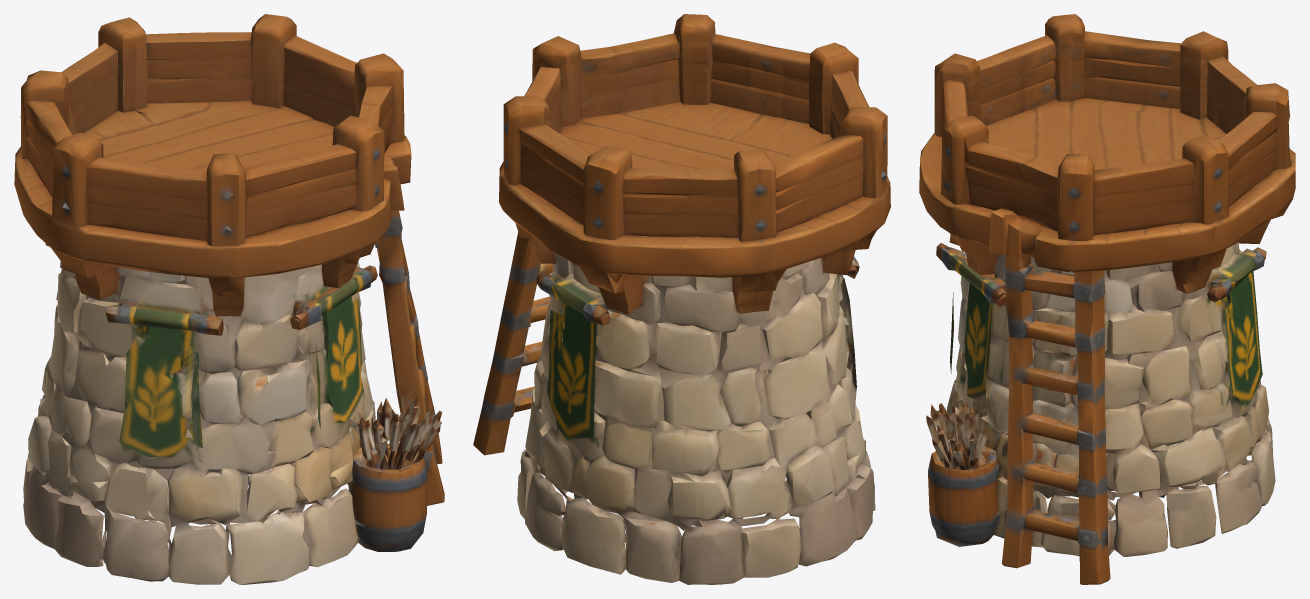
Rendered from archer_2.glb.
3 views of the same model, side by side, from view 1: azimuth 30°, elevation 25°; view 2: azimuth 150°, elevation 25°; view 3: azimuth 270°, elevation 25° (orthographic). The views are drawn at different scales.
Parts seen in each view (by area): view 1: Body; view 2: Body; view 3: Body.
Boxes of the visible parts, x1,y1,x2,y2 form: Body: [14, 14, 444, 584]; Body: [473, 14, 890, 584]; Body: [919, 14, 1295, 584].
Size of the model in its own units: 3.1 by 3.15 by 2.68.
1 material, 1 textured.
